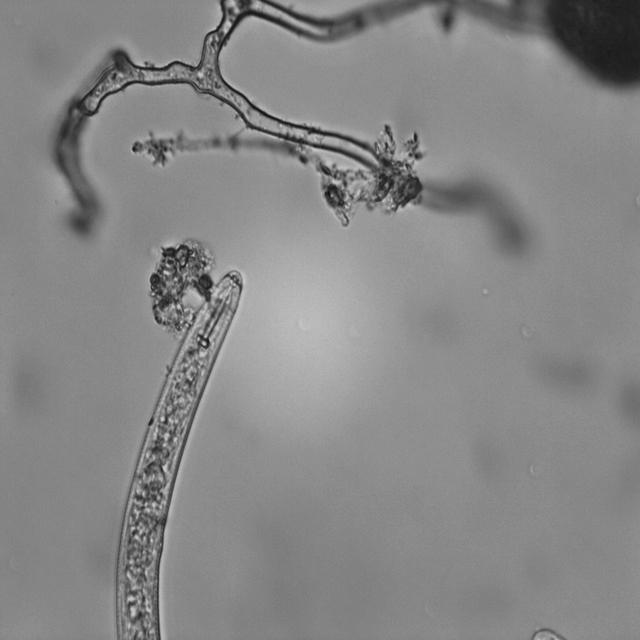Helicotylenchus: (114, 267, 253, 640)
